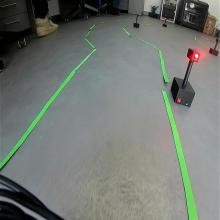red: (186, 48, 201, 62)
